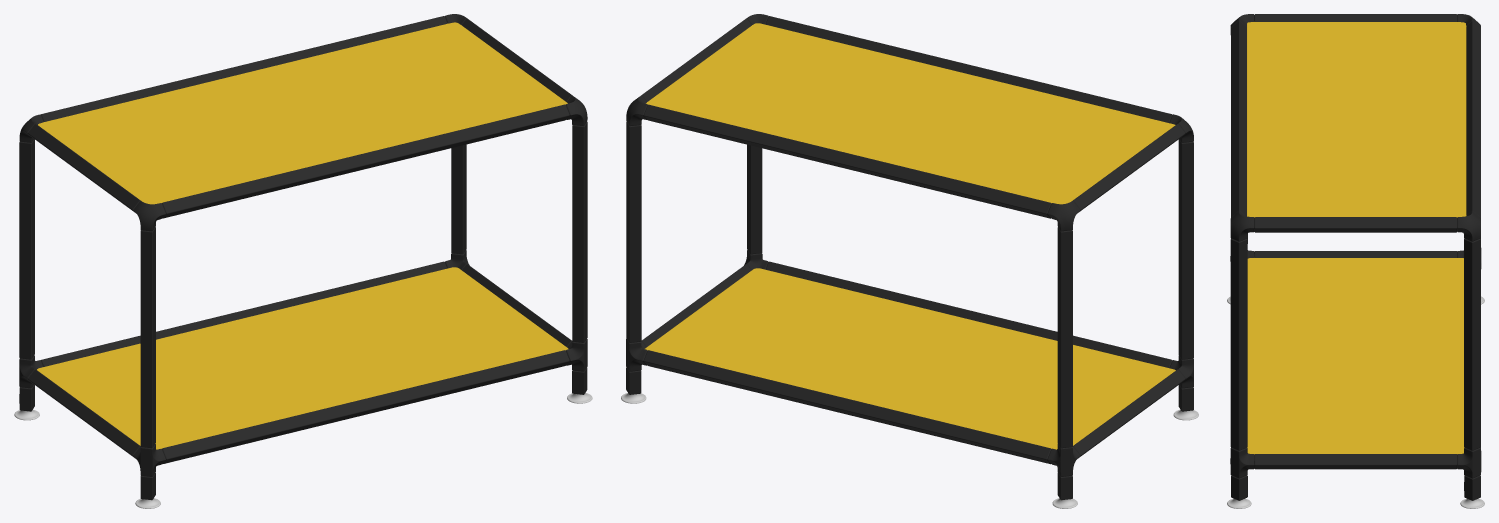
3 views of the same model, side by side, from view 1: azimuth 30°, elevation 25°; view 2: azimuth 150°, elevation 25°; view 3: azimuth 270°, elevation 25° (orthographic). The views are drawn at different scales.
Visible parts, largest first — view 1: 729x329x374; view 2: 729x329x374; view 3: 729x329x374.
Part boxes in pixels (x1=…): 729x329x374: x1=14, y1=14, x2=592, y2=508; 729x329x374: x1=621, y1=14, x2=1198, y2=508; 729x329x374: x1=1227, y1=14, x2=1484, y2=508.
Size of the model in its own units: 0.8189 by 0.5133 by 0.4182.
